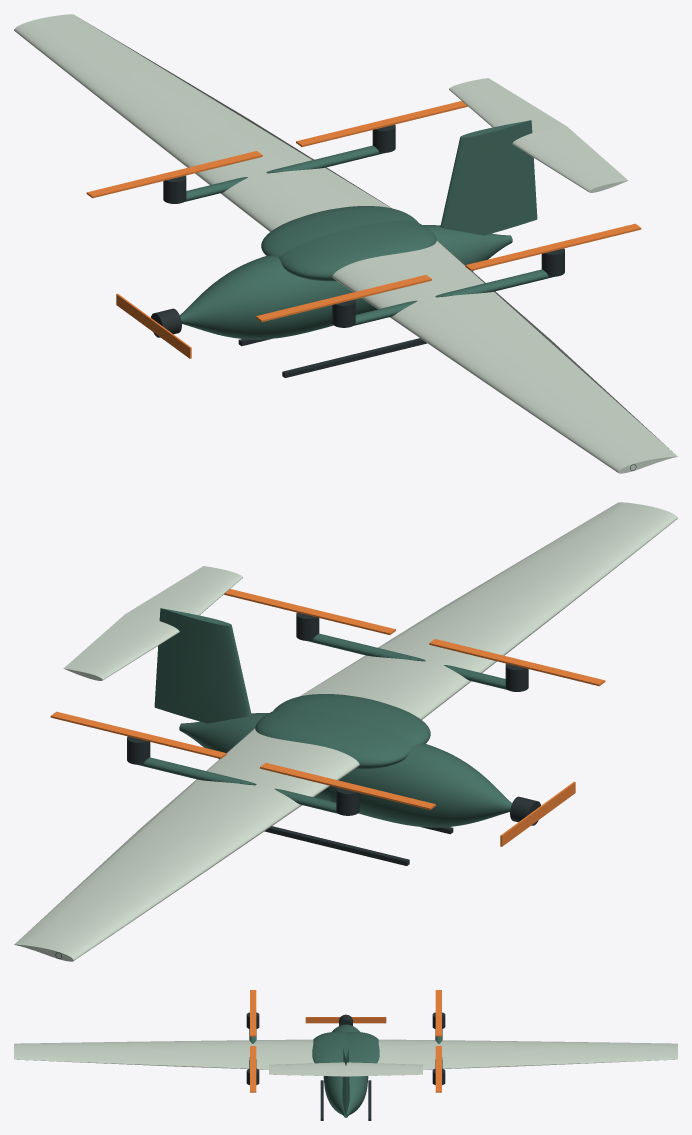
File: surface_tools-12-model.glb
3 renders of one model, top to bottom at view 1: azimuth 30°, elevation 25°; view 2: azimuth 150°, elevation 25°; view 3: azimuth 270°, elevation 25°, orthographic. The views are drawn at different scales.
Visible parts, largest first — view 1: wing-1, wing1, fuselage, fin, root_fairing-1, tail-1, root_fairing1, tail1, boom_fairing-1, boom_fairing1, prop_-1_700.0, prop_1_200.0 (+4 smaller); view 2: wing1, wing-1, fuselage, fin, root_fairing1, tail1, root_fairing-1, tail-1, boom_fairing1, boom_fairing-1, prop_1_700.0, prop_-1_200.0 (+4 smaller); view 3: wing-1, wing1, fuselage, tail-1, tail1, root_fairing-1, root_fairing1, cruise_prop, fin, prop_-1_200.0, prop_-1_700.0, prop_1_200.0 (+1 smaller).
Part boxes in pixels (x1,y1,x2,y2): wing-1: [332, 240, 677, 473]; wing1: [14, 14, 391, 231]; fuselage: [180, 225, 512, 339]; fin: [440, 120, 537, 235]; root_fairing-1: [279, 220, 436, 281]; tail-1: [512, 126, 628, 192]; root_fairing1: [261, 206, 418, 257]; tail1: [449, 78, 566, 132]; boom_fairing-1: [353, 269, 554, 325]; boom_fairing1: [184, 145, 384, 201]; prop_-1_700.0: [465, 223, 641, 270]; prop_1_200.0: [86, 151, 262, 198]; wing1: [14, 728, 359, 961]; wing-1: [300, 502, 677, 719]; fuselage: [179, 713, 511, 827]; fin: [154, 608, 251, 723]; root_fairing1: [255, 708, 412, 769]; tail1: [63, 614, 179, 680]; root_fairing-1: [273, 694, 430, 745]; tail-1: [125, 566, 242, 620]; boom_fairing1: [137, 757, 338, 813]; boom_fairing-1: [307, 633, 507, 689]; prop_1_700.0: [50, 711, 226, 758]; prop_-1_200.0: [429, 639, 605, 686]; wing-1: [14, 1039, 314, 1069]; wing1: [377, 1039, 677, 1069]; fuselage: [323, 1024, 368, 1117]; tail-1: [269, 1062, 345, 1076]; tail1: [346, 1062, 422, 1076]; root_fairing-1: [312, 1032, 345, 1063]; root_fairing1: [346, 1032, 379, 1063]; cruise_prop: [305, 1017, 386, 1023]; fin: [342, 1039, 349, 1114]; prop_-1_200.0: [250, 990, 256, 1036]; prop_-1_700.0: [250, 1046, 256, 1092]; prop_1_200.0: [435, 990, 441, 1036].
Bounding box in the file's own units: 989 × 400 × 2500.
